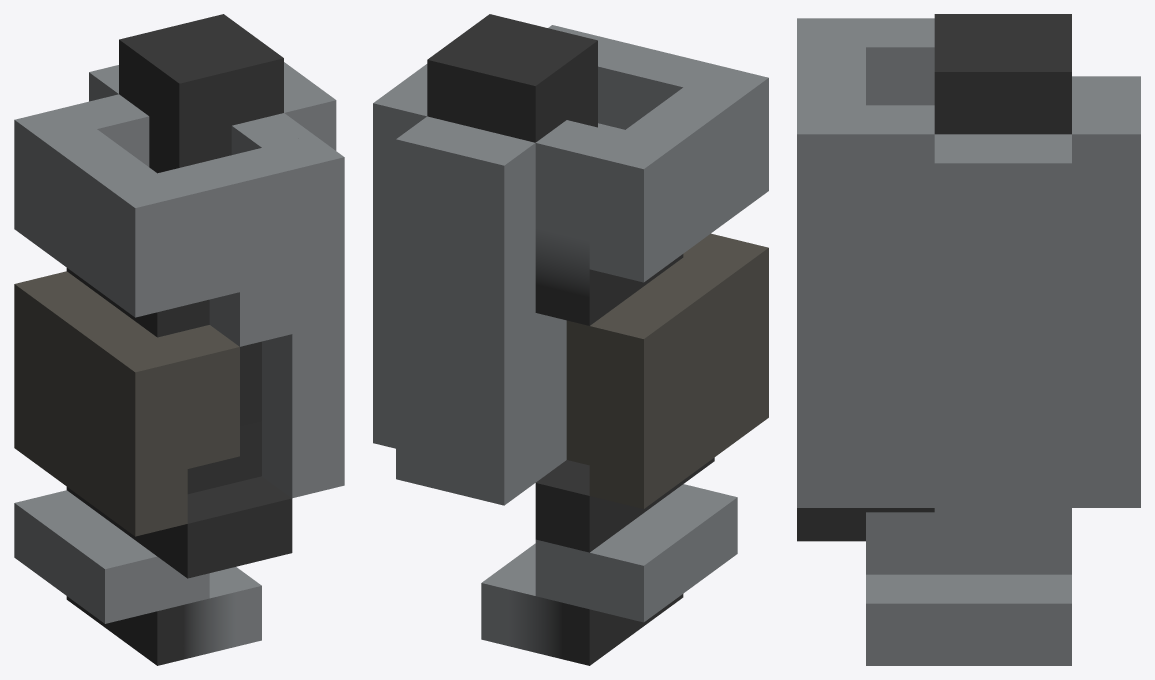
The model's file is Arm10.fbx.
3 views of the same model, side by side, from view 1: azimuth 30°, elevation 25°; view 2: azimuth 150°, elevation 25°; view 3: azimuth 270°, elevation 25° (orthographic). The views are drawn at different scales.
Parts seen in each view (by area): view 1: Arm10; view 2: Arm10; view 3: Arm10.
Boxes of the visible parts, x1,y1,x2,y2 form: Arm10: [14, 14, 344, 665]; Arm10: [373, 14, 768, 665]; Arm10: [797, 14, 1140, 665].
Size of the model in its own units: 25 by 50 by 25.
